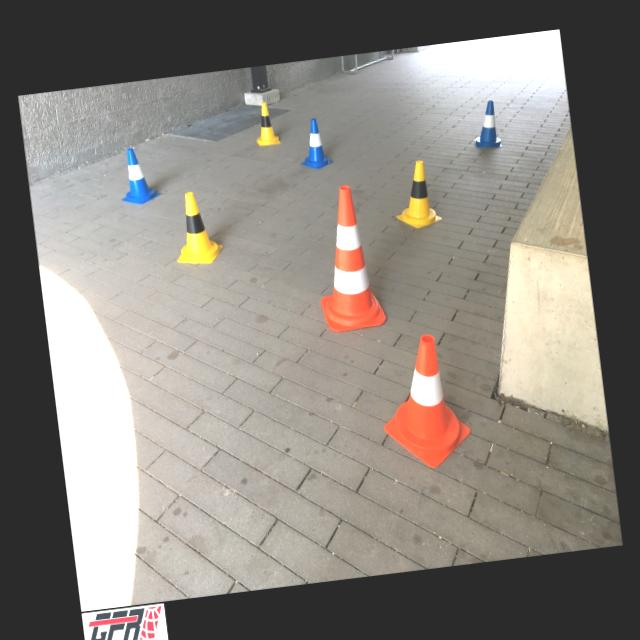blue_cone: (114, 144, 162, 206), (296, 116, 334, 170), (469, 99, 502, 150)
large_orange_cone: (307, 182, 387, 332)
orange_cone: (372, 329, 474, 474)
yellow_cone: (168, 188, 224, 266), (390, 158, 442, 230), (252, 100, 280, 146)
